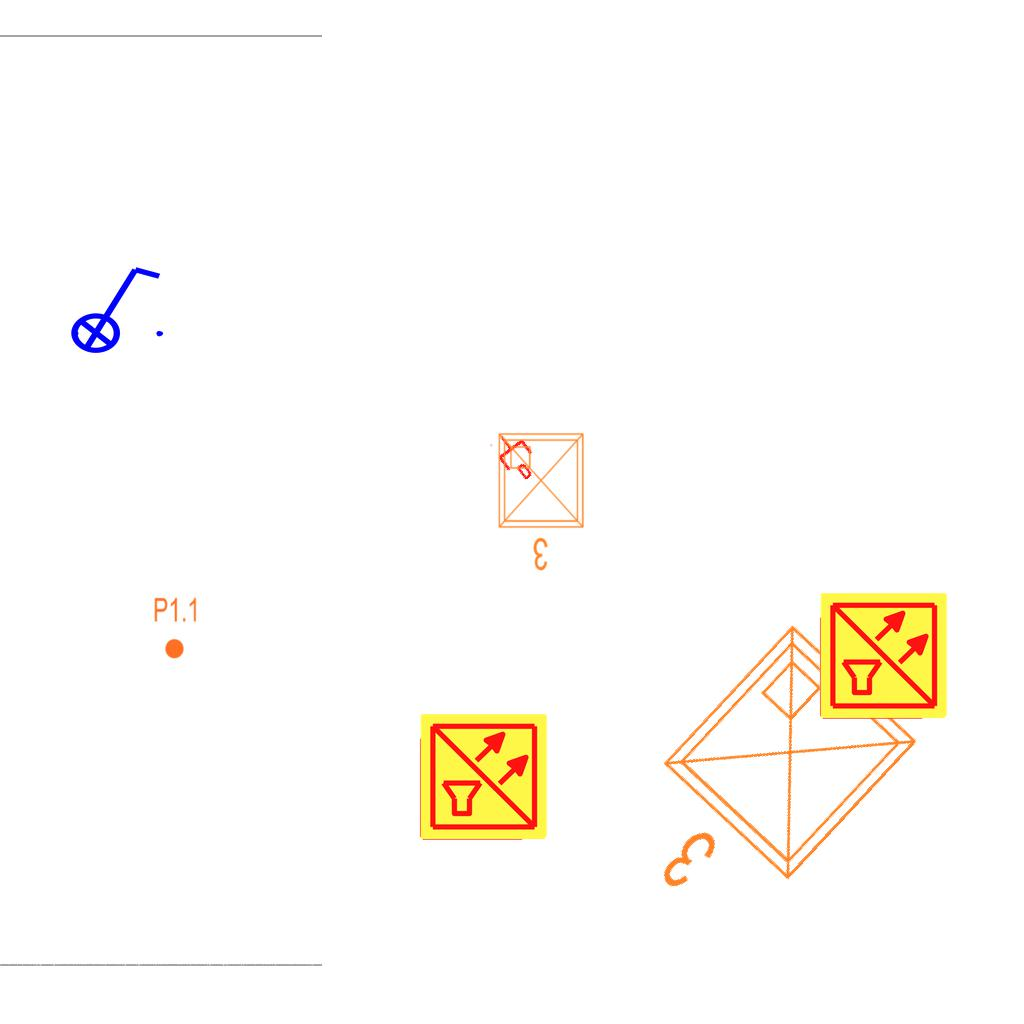Ausschalter_beleuchtet: (57, 259, 169, 355)
Datenanschluss_einfach: (487, 425, 545, 487)
Downlight_LED_Einbauleuchten_Flur: (153, 596, 199, 660)
Einbaudownlights_LED_Konferenzraeume: (586, 604, 944, 966), (491, 426, 595, 576)
OKW_Multisensormelder_(Kombination_optischer_Rauch-Kahlenmonoxid_Waerme-Melder): (418, 711, 550, 843), (818, 590, 950, 722)
